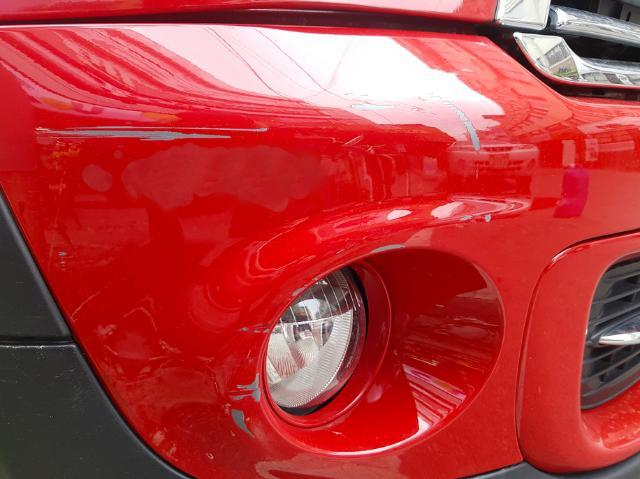Bumper: (48, 85, 597, 479)
